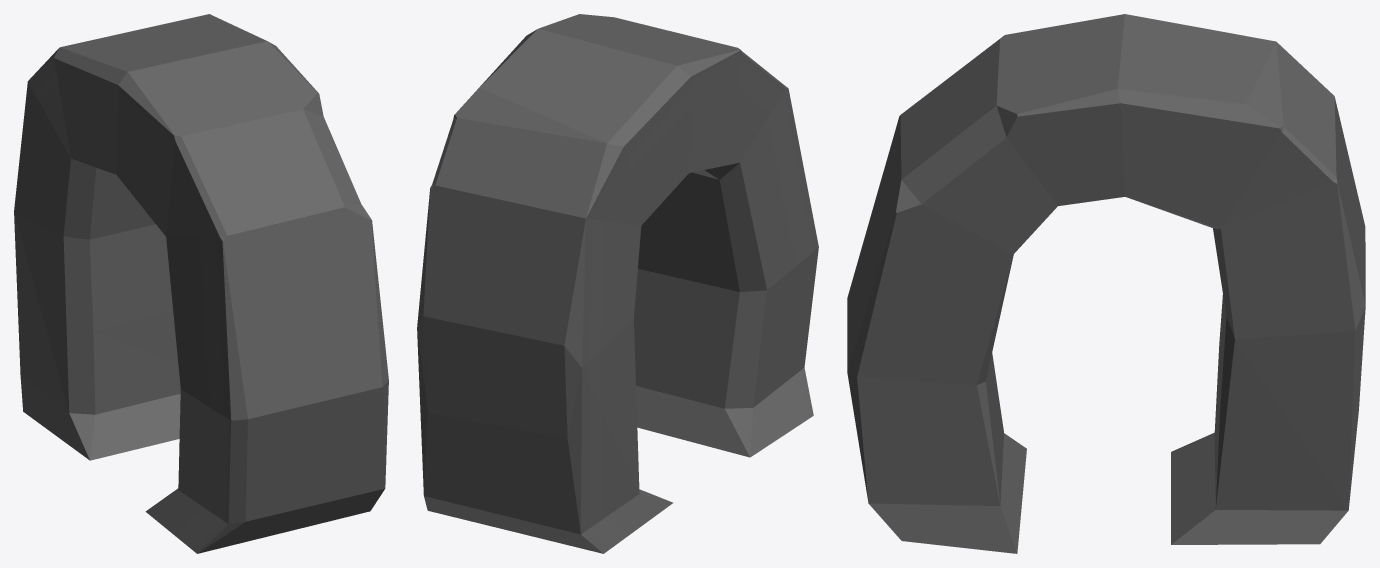
The model's file is Portaltor.fbx.
3 views of the same model, side by side, from view 1: azimuth 30°, elevation 25°; view 2: azimuth 150°, elevation 25°; view 3: azimuth 270°, elevation 25° (orthographic). The views are drawn at different scales.
Visible parts, largest first — view 1: Cube; view 2: Cube; view 3: Cube.
Part boxes in pixels (x1=…): Cube: x1=14, y1=14, x2=388, y2=553; Cube: x1=417, y1=14, x2=818, y2=553; Cube: x1=847, y1=14, x2=1365, y2=553.
Bounding box in the file's own units: 2.81 × 5.45 × 5.71.
